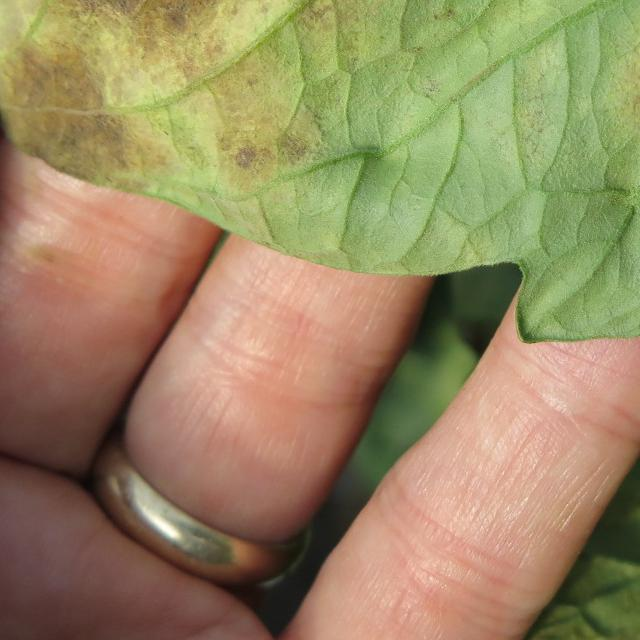Tomato mold leaf: (0, 0, 640, 335)
